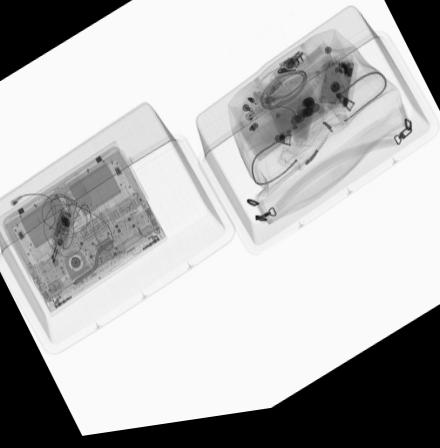Lighter: (243, 105, 274, 130)
